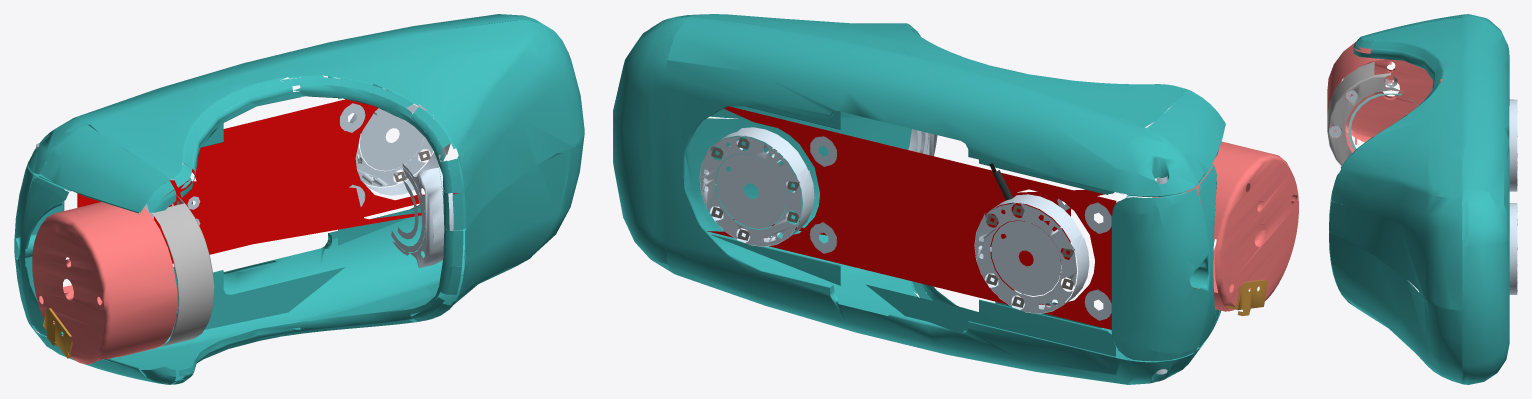
Rendered from sim_icub3_r_ankle_2.obj.
The picture shows the model from 3 angles, left to right: view 1: azimuth 30°, elevation 25°; view 2: azimuth 150°, elevation 25°; view 3: azimuth 270°, elevation 25°; orthographic projection. The views are drawn at different scales.
Bounding box in the file's own units: 257 × 117 × 92.8.
